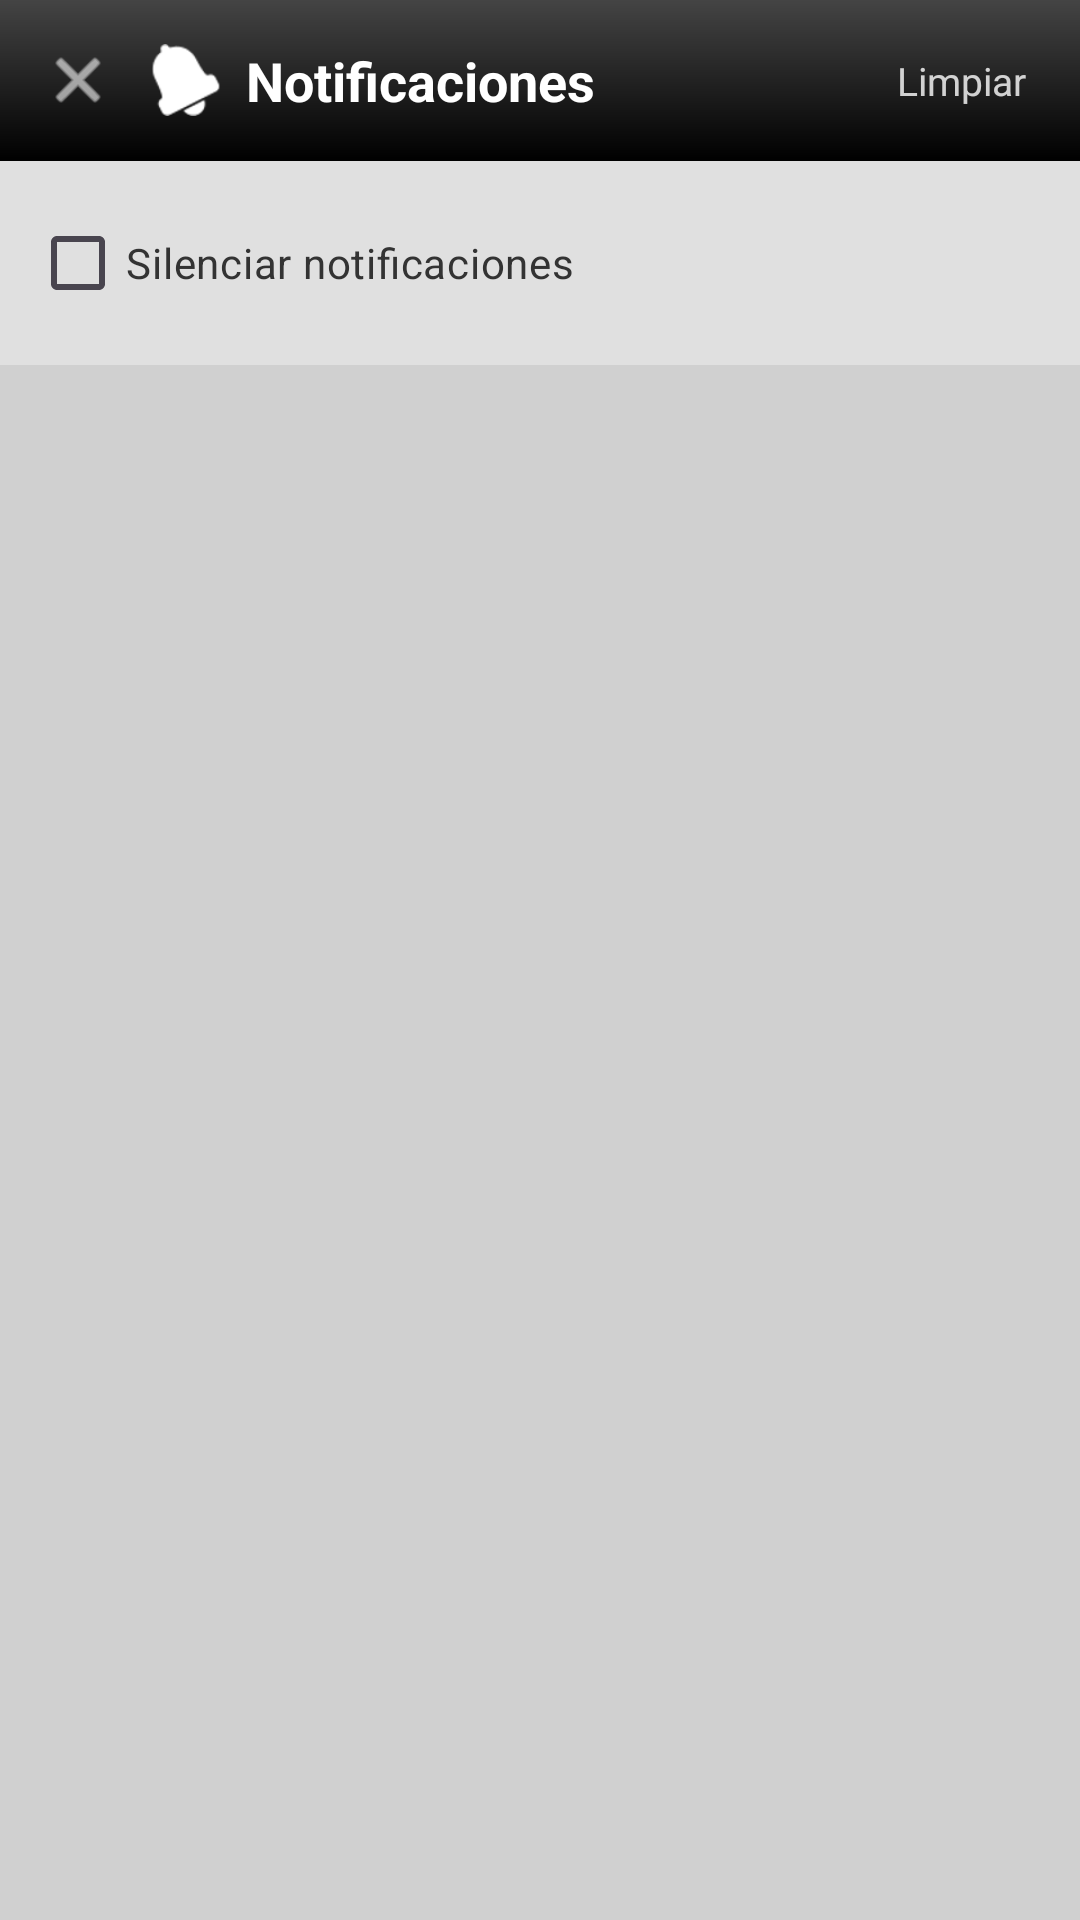

Named icons in this screenshot (1080w x 1920h) and their centers, (x,y):
close clear cancel: (78,73)
popup reminder: (186,80)
